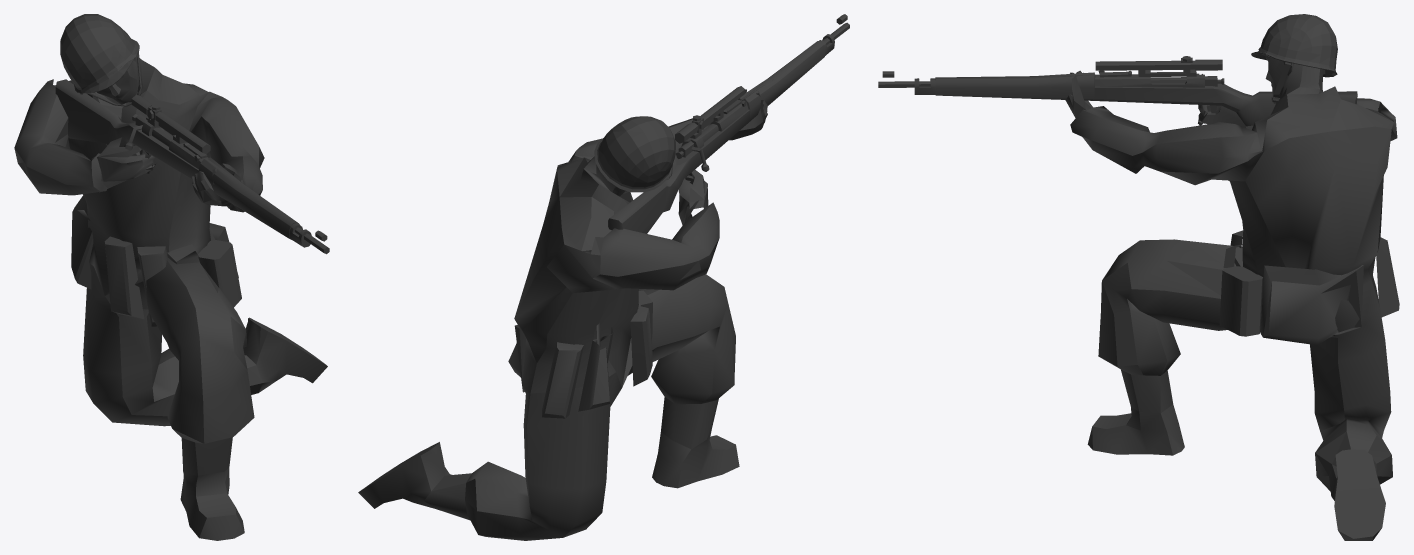
Rendered from us_garand_acc.glb.
3 views of the same model, side by side, from view 1: azimuth 30°, elevation 25°; view 2: azimuth 150°, elevation 25°; view 3: azimuth 270°, elevation 25° (orthographic). The views are drawn at different scales.
Visible parts, largest first — view 1: Object.004_Object.017_2; view 2: Object.004_Object.017_2; view 3: Object.004_Object.017_2.
Part boxes in pixels (<box>): Object.004_Object.017_2: <box>14,14,329,540</box>; Object.004_Object.017_2: <box>358,14,849,540</box>; Object.004_Object.017_2: <box>878,14,1399,540</box>.
Size of the model in its own units: 0.2895 by 0.3787 by 0.4224.
1 material, 1 textured.
